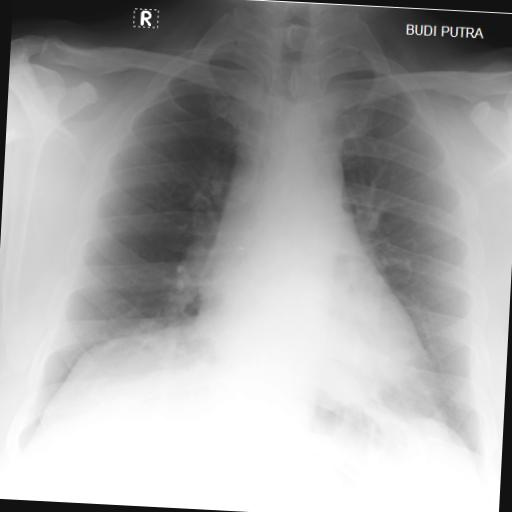kardiomegali: (15, 40, 512, 470)
